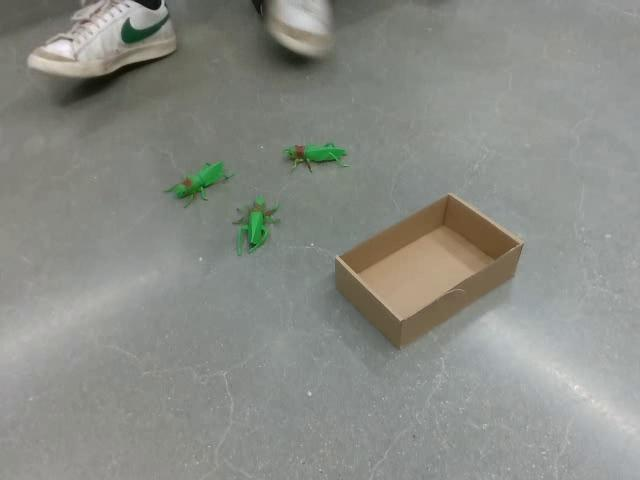box: (333, 191, 524, 349)
grasshopper: (162, 159, 233, 208), (231, 193, 280, 256), (282, 141, 350, 173)
